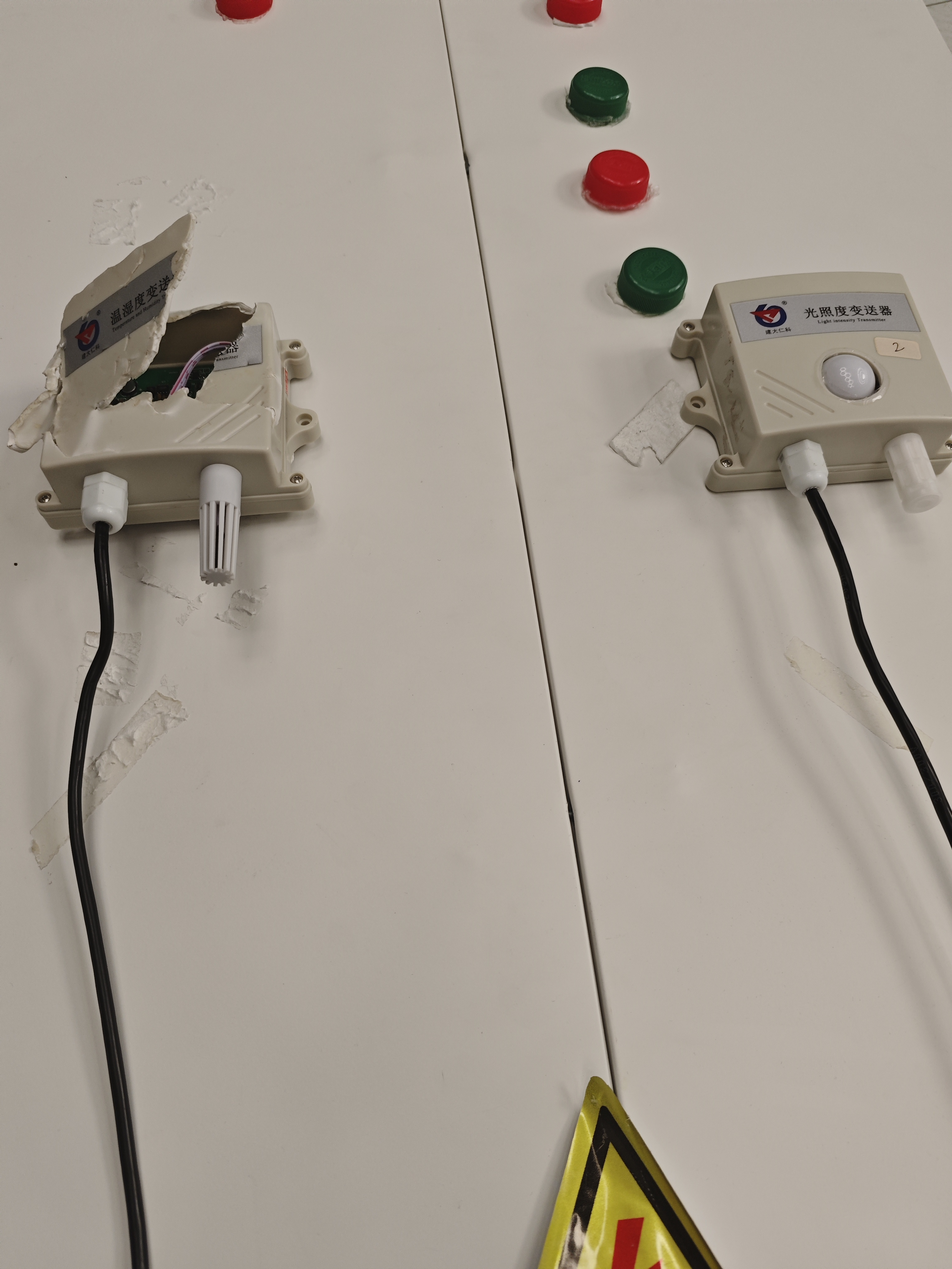red_warning: (581, 135, 679, 237)
sensor_damage: (23, 190, 347, 598)
